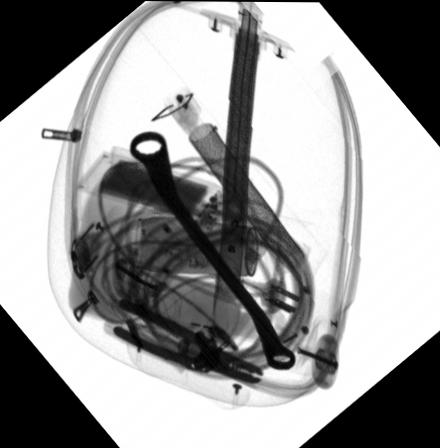Pliers: (111, 297, 264, 384)
Powerbank: (90, 157, 239, 231)
Wrench: (129, 131, 294, 370)
